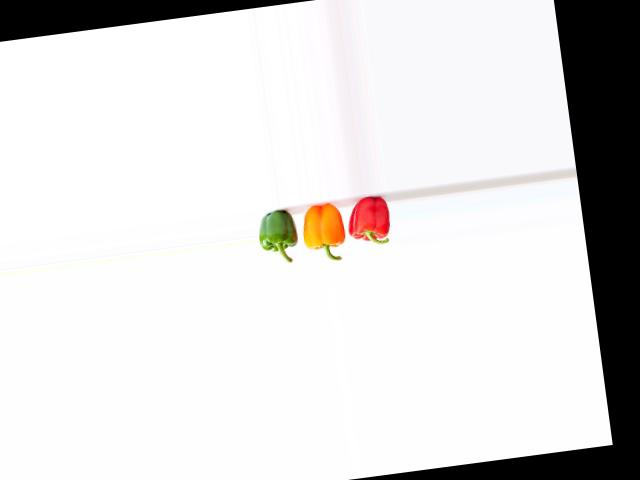bell_pepper: (344, 195, 397, 258)
